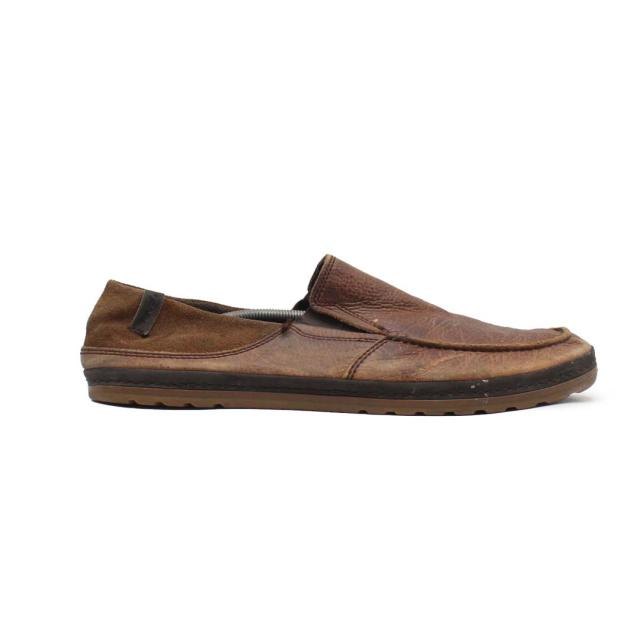heel: (84, 280, 169, 369)
midsole: (81, 346, 595, 417)
uppersole: (147, 252, 590, 380)
